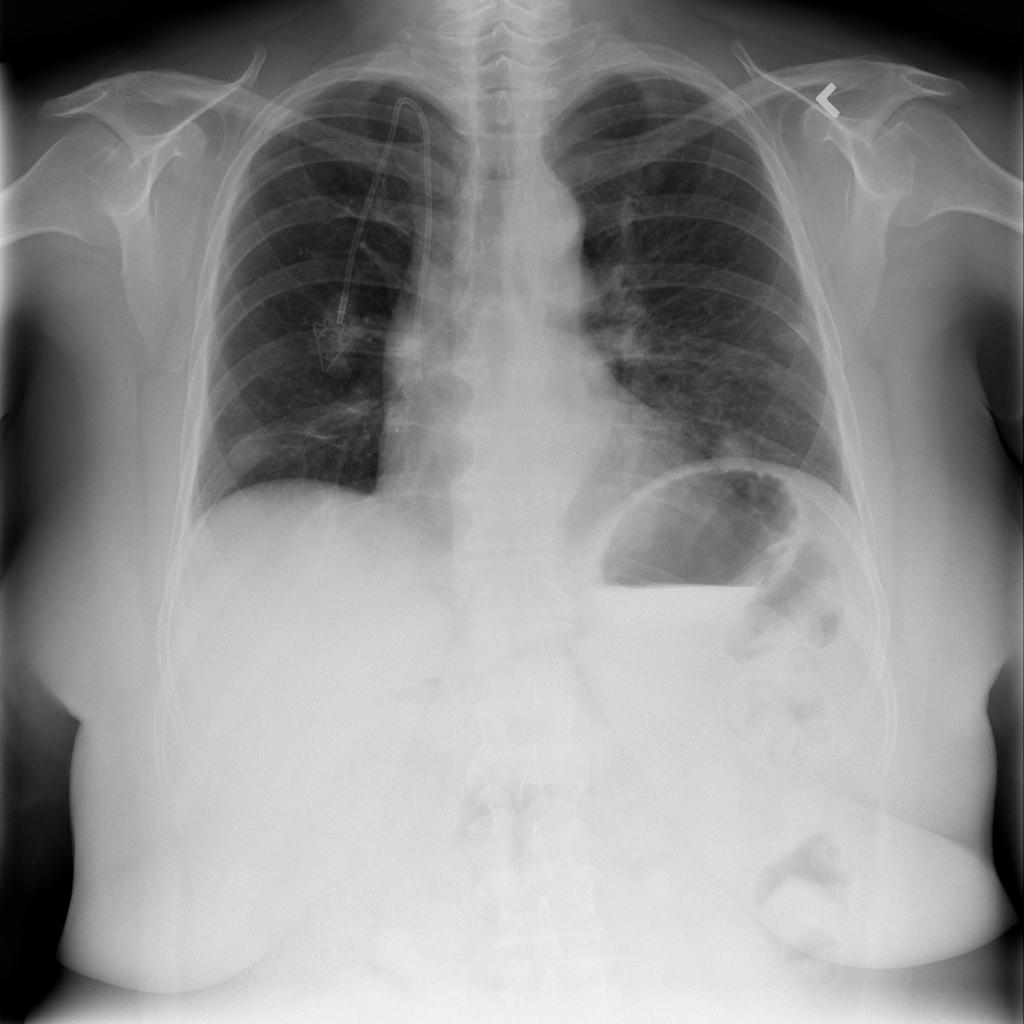nodule: (211, 417, 286, 489), (701, 412, 766, 485), (755, 306, 827, 369)
